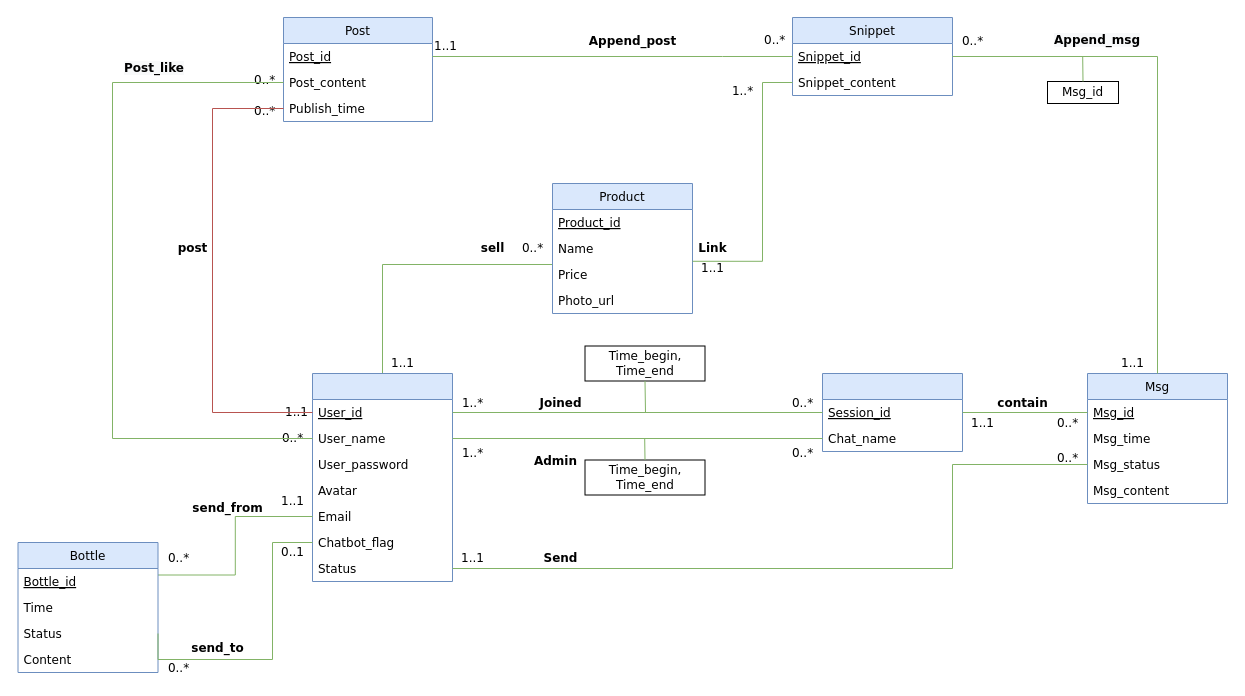
Image size: 1245x696. Some labels were removed from this diagram. The shapes that lost their labels are listed below. From the top down, each one's box as (x1, y1, x2, y2) in pixels, then its label:
(822, 372, 962, 452): Chat_session
(312, 372, 452, 582): Chat_user
